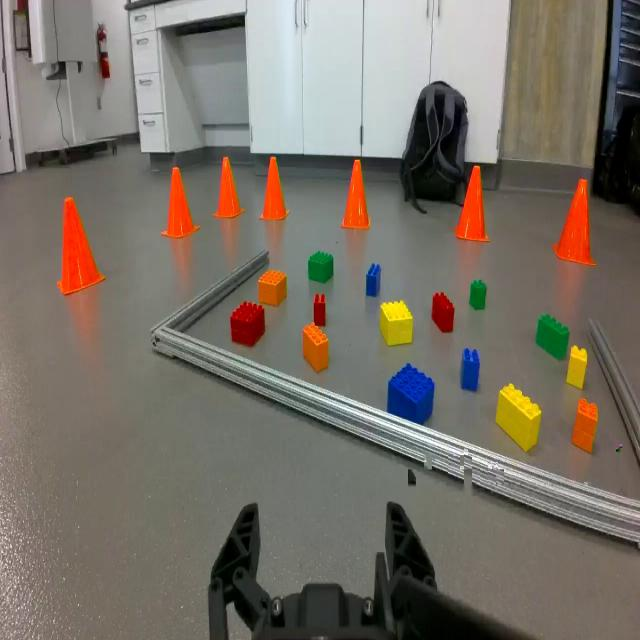block: (496, 378, 544, 454), (378, 298, 416, 350), (569, 344, 589, 388)
blue: (386, 354, 437, 428), (458, 346, 481, 394), (364, 259, 383, 300)
cone: (54, 193, 106, 300), (550, 170, 597, 270), (453, 163, 491, 245), (163, 163, 200, 244), (339, 156, 373, 234), (214, 150, 246, 224), (263, 152, 291, 224)
green: (534, 308, 570, 363), (309, 249, 334, 285), (469, 277, 488, 314)
metal barrier: (149, 245, 640, 547)
orange: (300, 321, 334, 376), (572, 396, 599, 452), (257, 264, 289, 308)
red goal: (232, 299, 266, 348), (432, 290, 456, 335), (310, 290, 330, 331)
